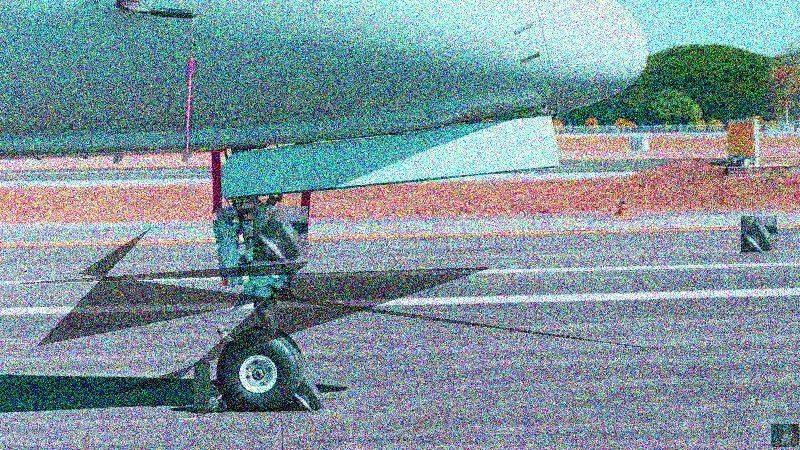chock: (253, 206, 308, 264), (289, 375, 327, 413), (741, 216, 777, 254), (193, 384, 229, 413), (771, 424, 799, 447)
wheel: (215, 324, 307, 413), (231, 324, 302, 359)
